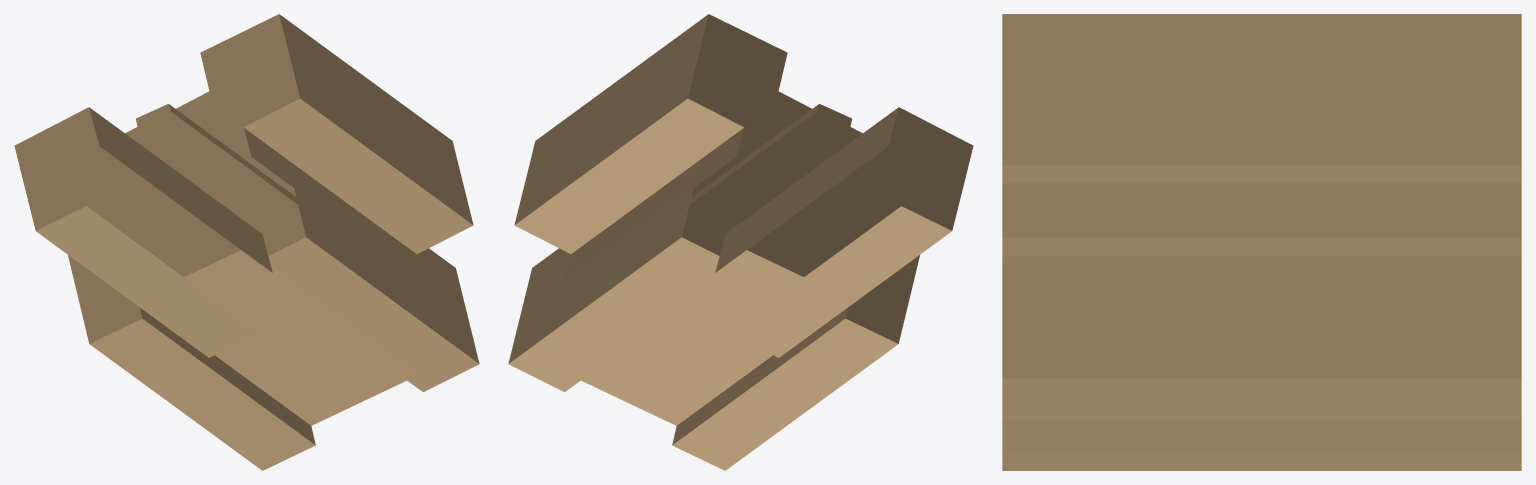
The picture shows the model from 3 angles, left to right: view 1: azimuth 30°, elevation 25°; view 2: azimuth 150°, elevation 25°; view 3: azimuth 270°, elevation 25°; orthographic projection. The views are drawn at different scales.
Parts seen in each view (by area): view 1: 0_1_0_0_0_1_1_2; view 2: 0_1_0_0_0_1_1_2; view 3: 0_1_0_0_0_1_1_2.
Boxes of the visible parts, <box> form: 0_1_0_0_0_1_1_2: <box>14,14,479,470</box>; 0_1_0_0_0_1_1_2: <box>508,14,973,470</box>; 0_1_0_0_0_1_1_2: <box>1002,14,1521,470</box>.
Bounding box in the file's own units: 23.31 × 21.66 × 24.
